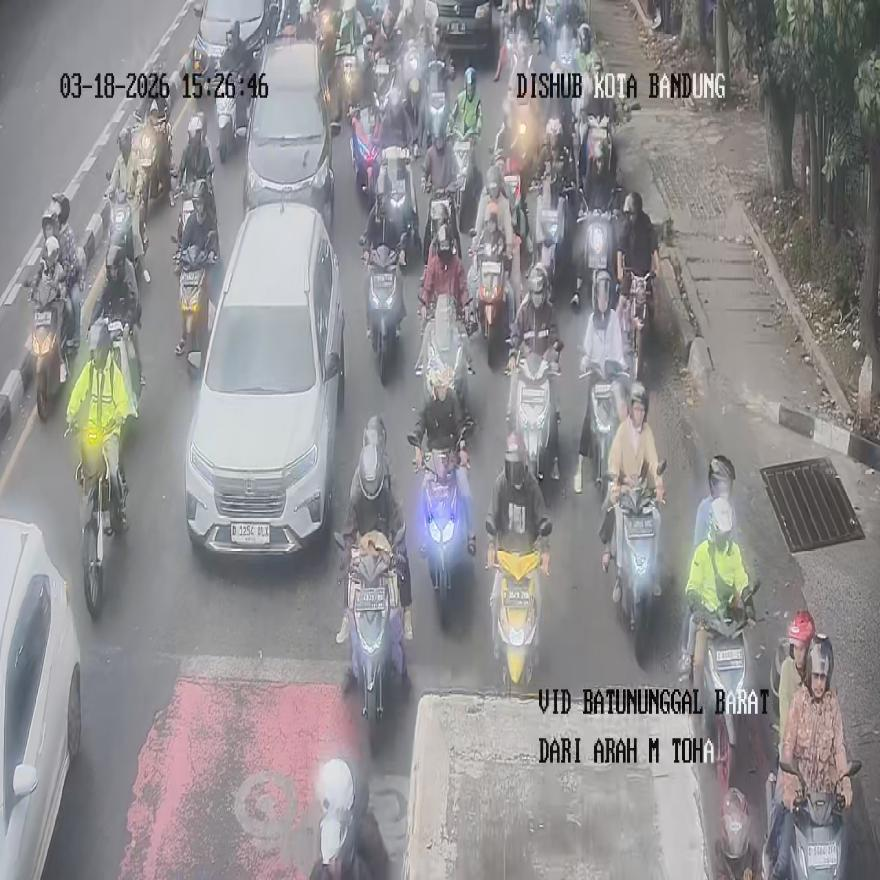Motor: (185, 202, 344, 556), (0, 518, 81, 878), (242, 38, 340, 233)
Truk: (337, 530, 406, 750), (694, 584, 760, 790), (607, 460, 664, 661), (487, 517, 550, 697), (767, 761, 861, 879), (308, 758, 388, 880), (78, 418, 126, 618), (420, 449, 473, 628), (578, 360, 631, 498), (512, 341, 562, 483), (28, 282, 71, 420), (365, 244, 404, 384), (576, 187, 620, 310), (534, 174, 574, 300), (377, 144, 415, 264), (619, 268, 655, 382), (477, 243, 510, 367), (715, 786, 757, 880), (350, 100, 383, 212), (109, 190, 147, 284), (176, 259, 208, 361), (449, 131, 477, 231), (333, 48, 363, 124), (215, 72, 237, 163), (401, 38, 421, 132)
